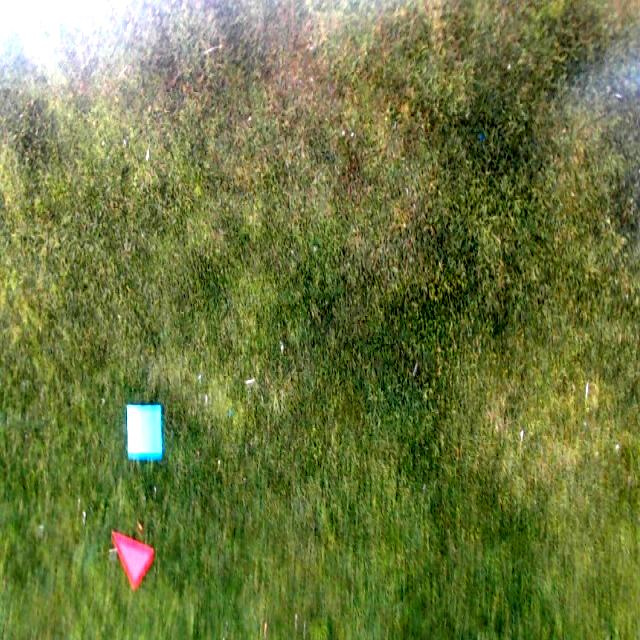blue_square: (125, 402, 162, 458)
red_triangle: (113, 532, 154, 591)
